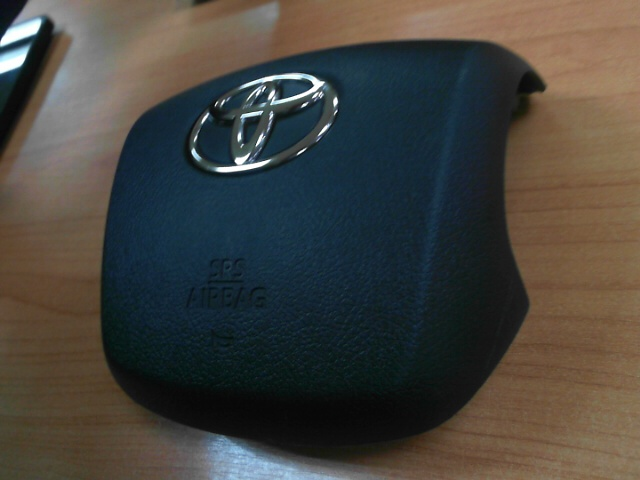AirbagV2: (96, 37, 549, 448)
